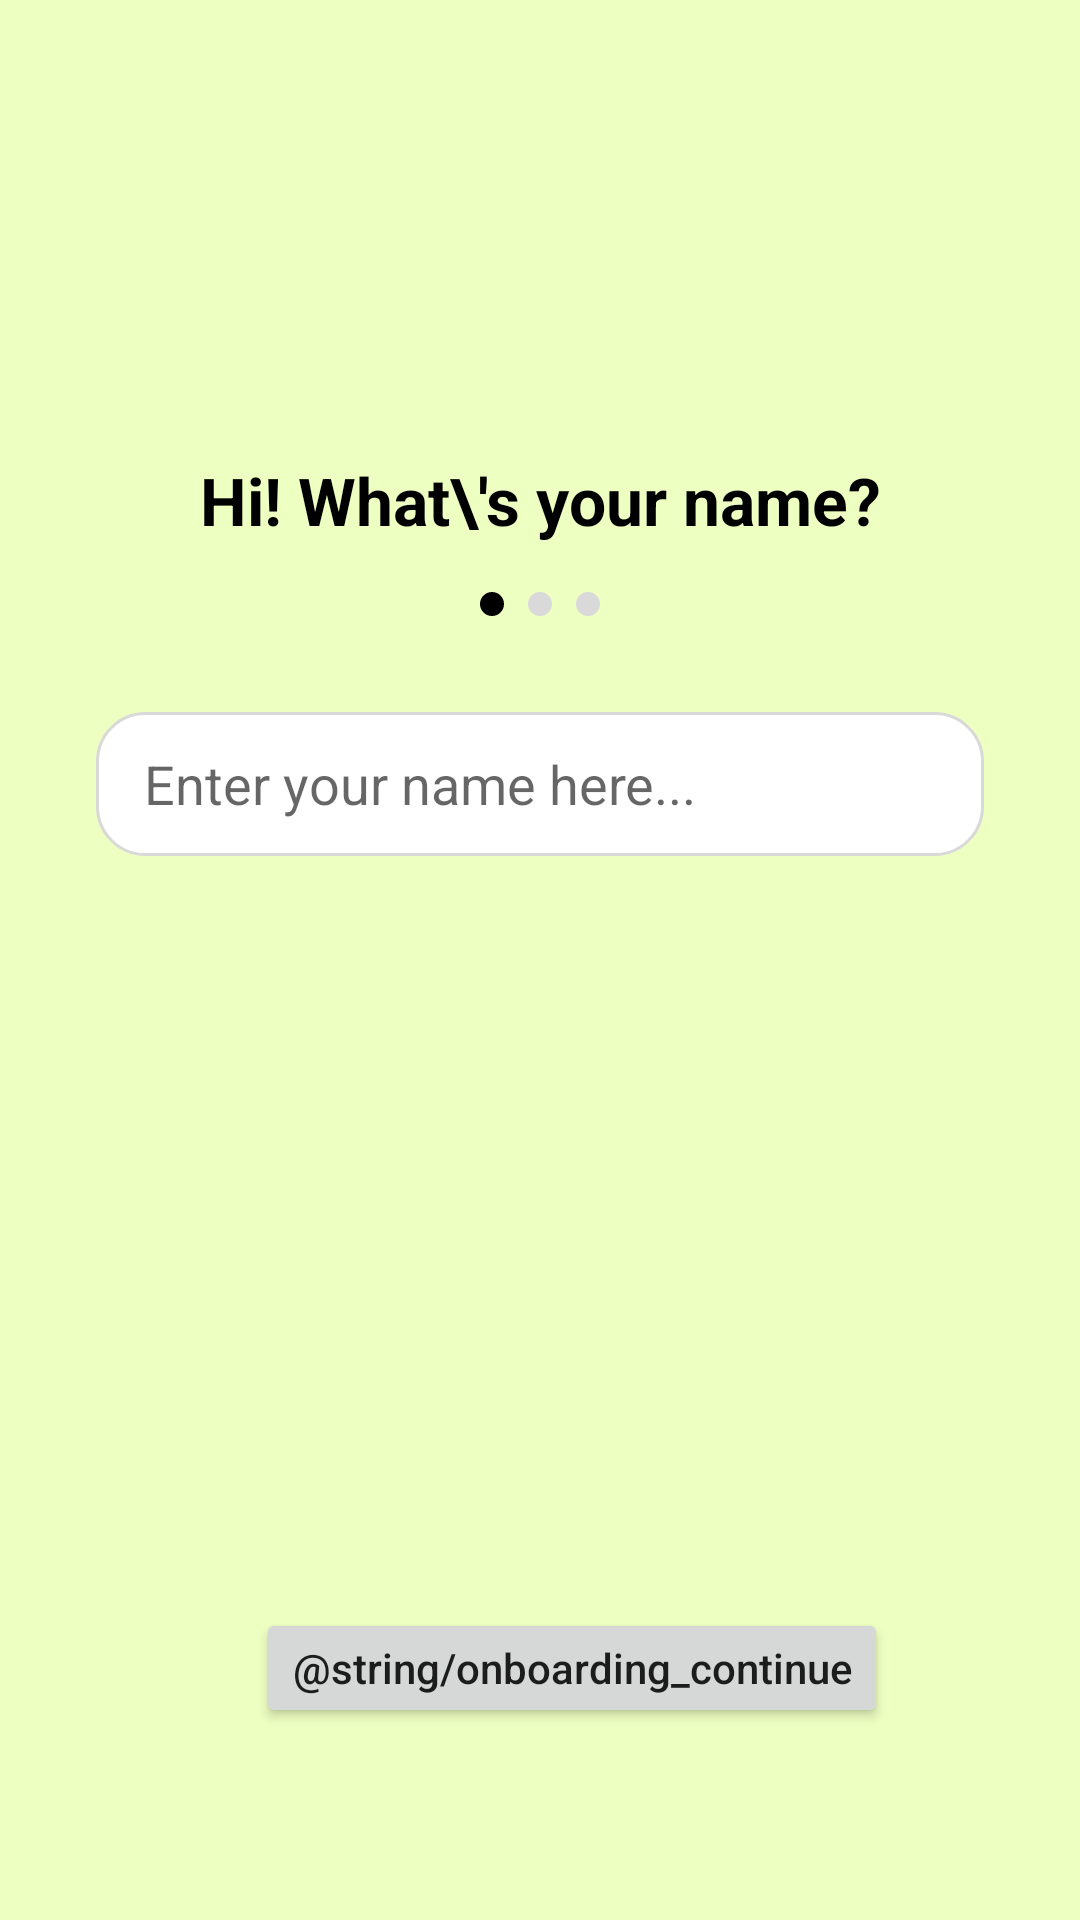

Icons on this 1080*1920 Android screen, each with the point to tap as (x,y):
dot: (492,604)
